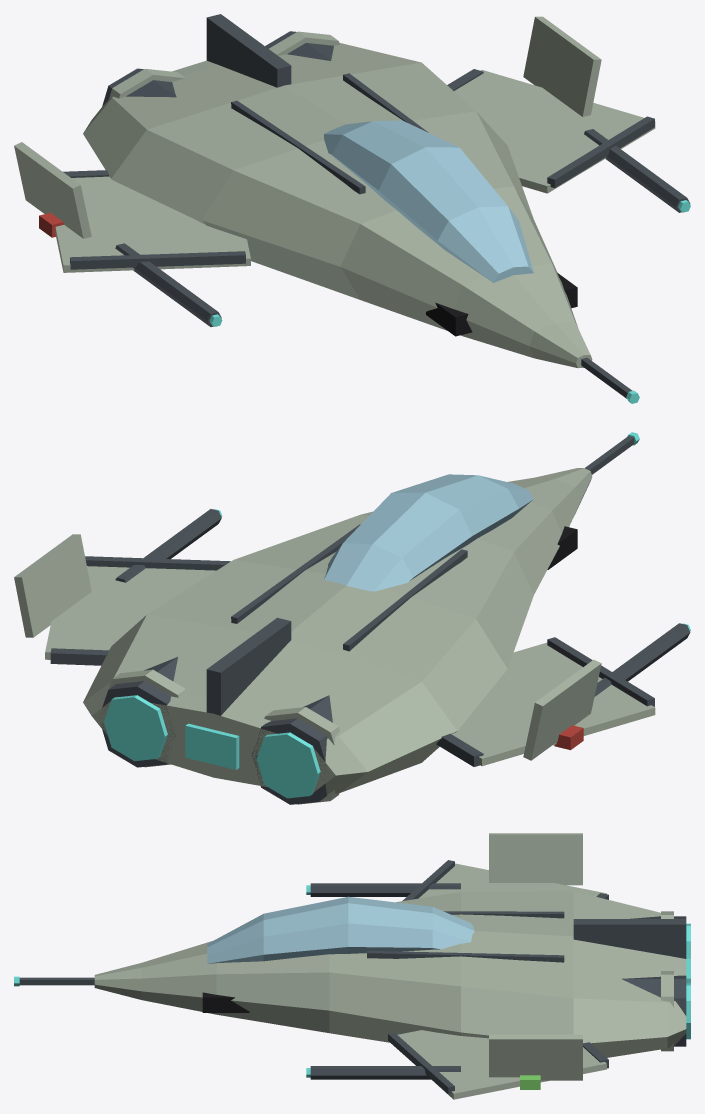
File: SH_Dart_01.glb
The picture shows the model from 3 angles, top to bottom: view 1: azimuth 30°, elevation 25°; view 2: azimuth 150°, elevation 25°; view 3: azimuth 270°, elevation 25°; orthographic projection. The views are drawn at different scales.
Parts seen in each view (by area): view 1: SH_Dart_01; view 2: SH_Dart_01; view 3: SH_Dart_01.
Part boxes in pixels (left/top/right/bottom): SH_Dart_01: left=14, top=14, right=690, bottom=403; SH_Dart_01: left=14, top=432, right=690, bottom=804; SH_Dart_01: left=14, top=833, right=690, bottom=1099.
Size of the model in its own units: 5.81 by 1.35 by 7.21.
Materials: 1 (1 with a texture image).
